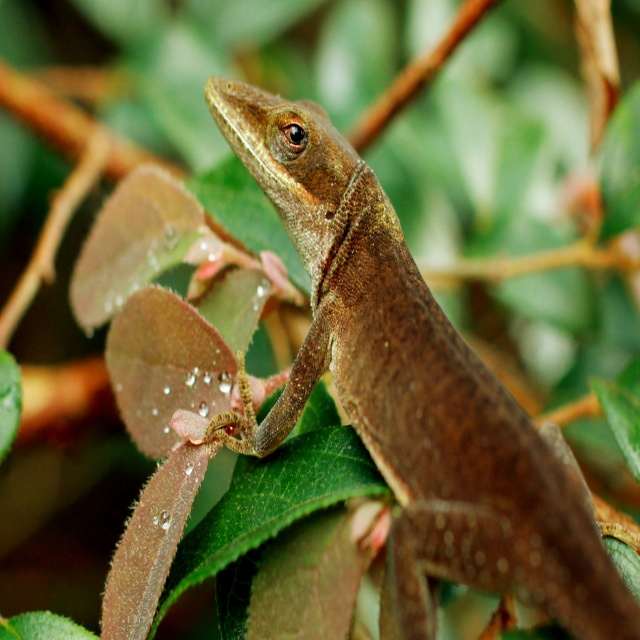Lizard: (204, 76, 640, 640)
